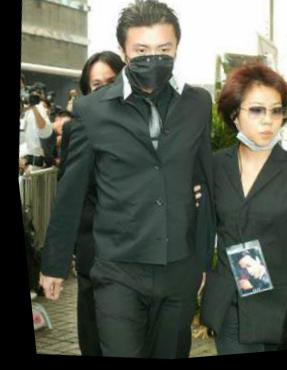OK: (118, 34, 180, 95)
WRONG: (230, 99, 287, 159)
